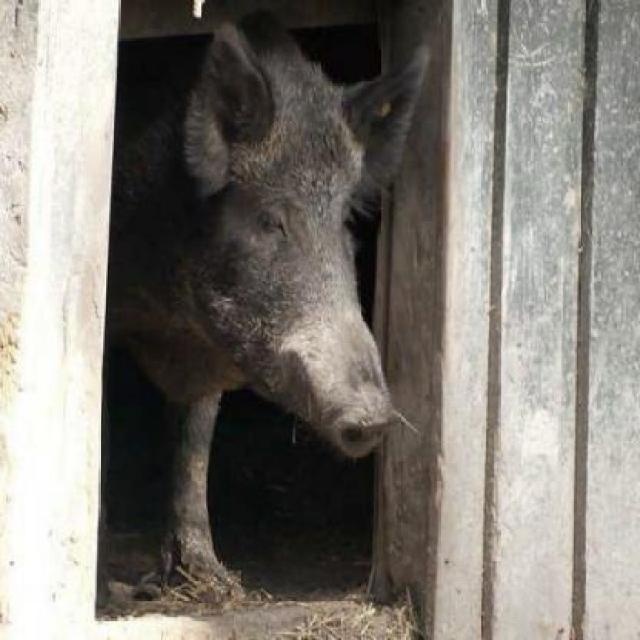Boar: (71, 40, 415, 625)
